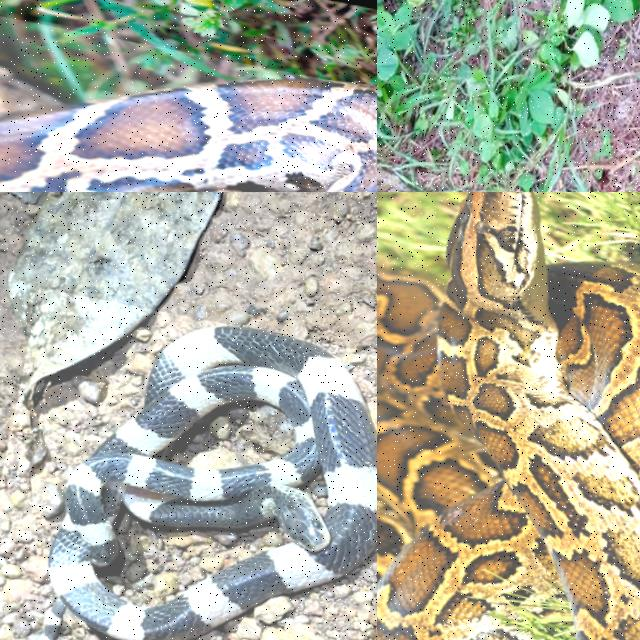Bungarus candidus: (37, 326, 376, 639)
Python bivittatus: (377, 192, 639, 639), (0, 80, 376, 191), (377, 167, 413, 191)
snake: (377, 192, 639, 639), (37, 326, 376, 639), (0, 80, 376, 191), (377, 167, 413, 191)
